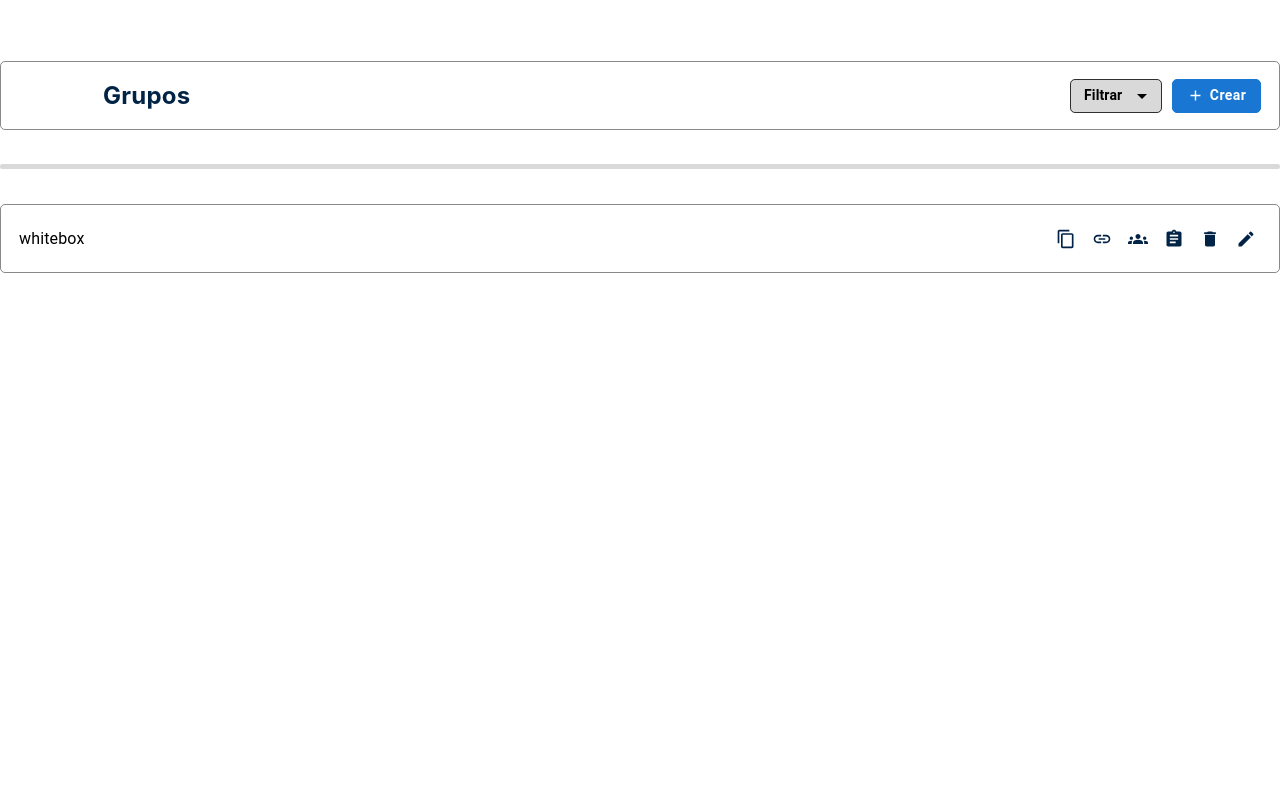
Scenario: GroupsPage › opens the edit popup with the current description preloaded
Click the button named "edit-group" at (1246, 238), box x1=1231 y1=224 x2=1261 y2=254
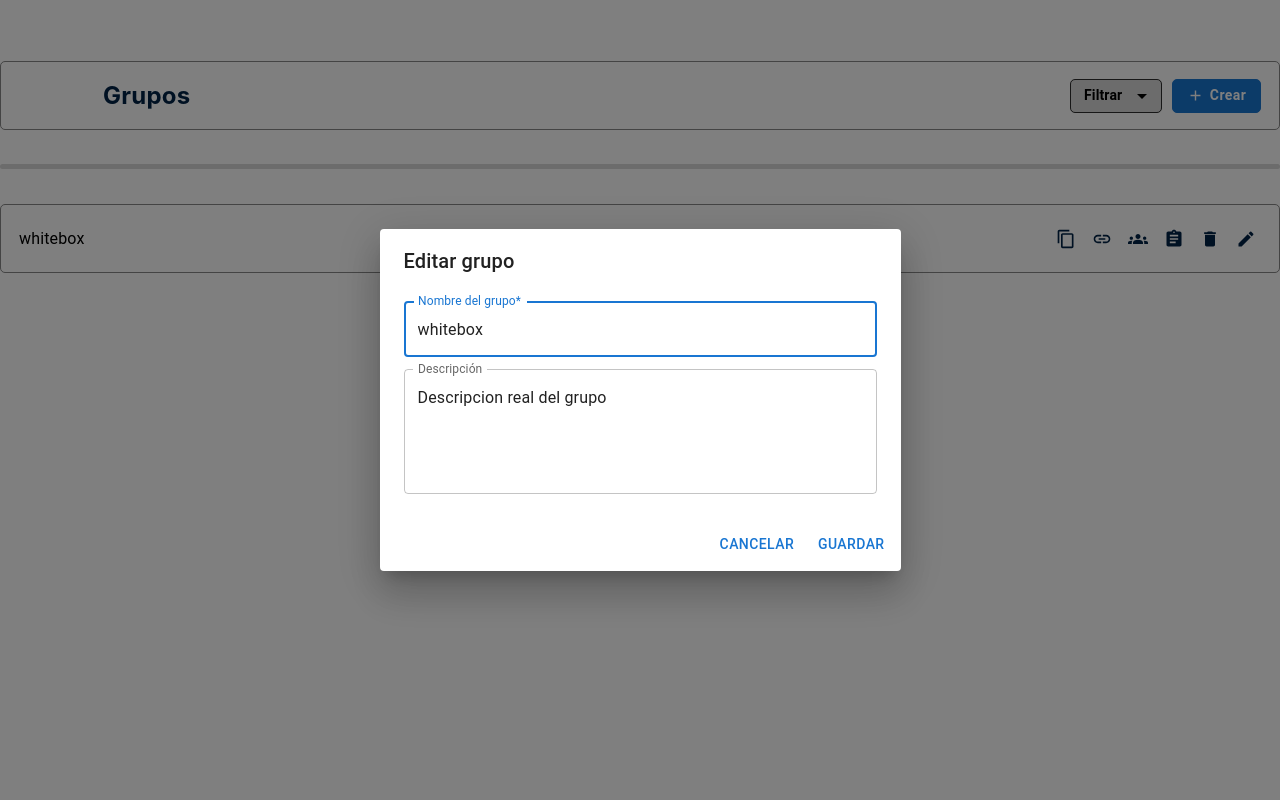
expect the text box showing "Descripcion real del grupo" is shown: met, box x1=418 y1=386 x2=862 y2=478
